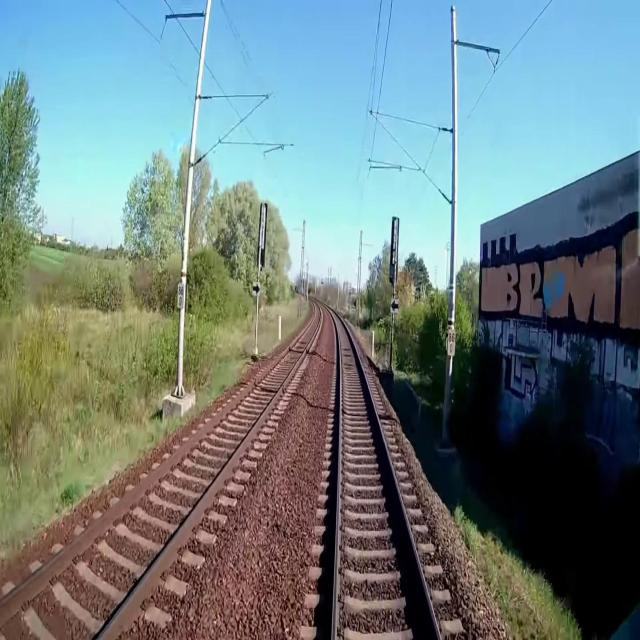rail-track: (0, 303, 319, 639), (332, 312, 437, 639)
